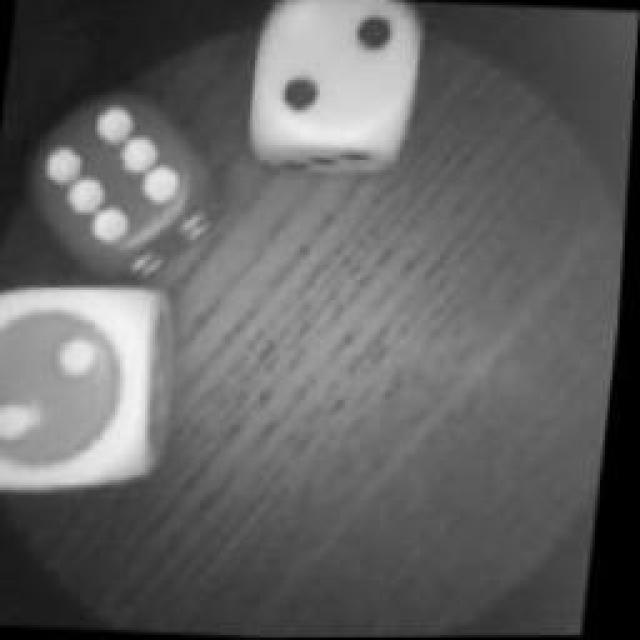dice_2: (0, 279, 185, 499), (242, 0, 429, 172)
dice_6: (15, 84, 217, 276)
